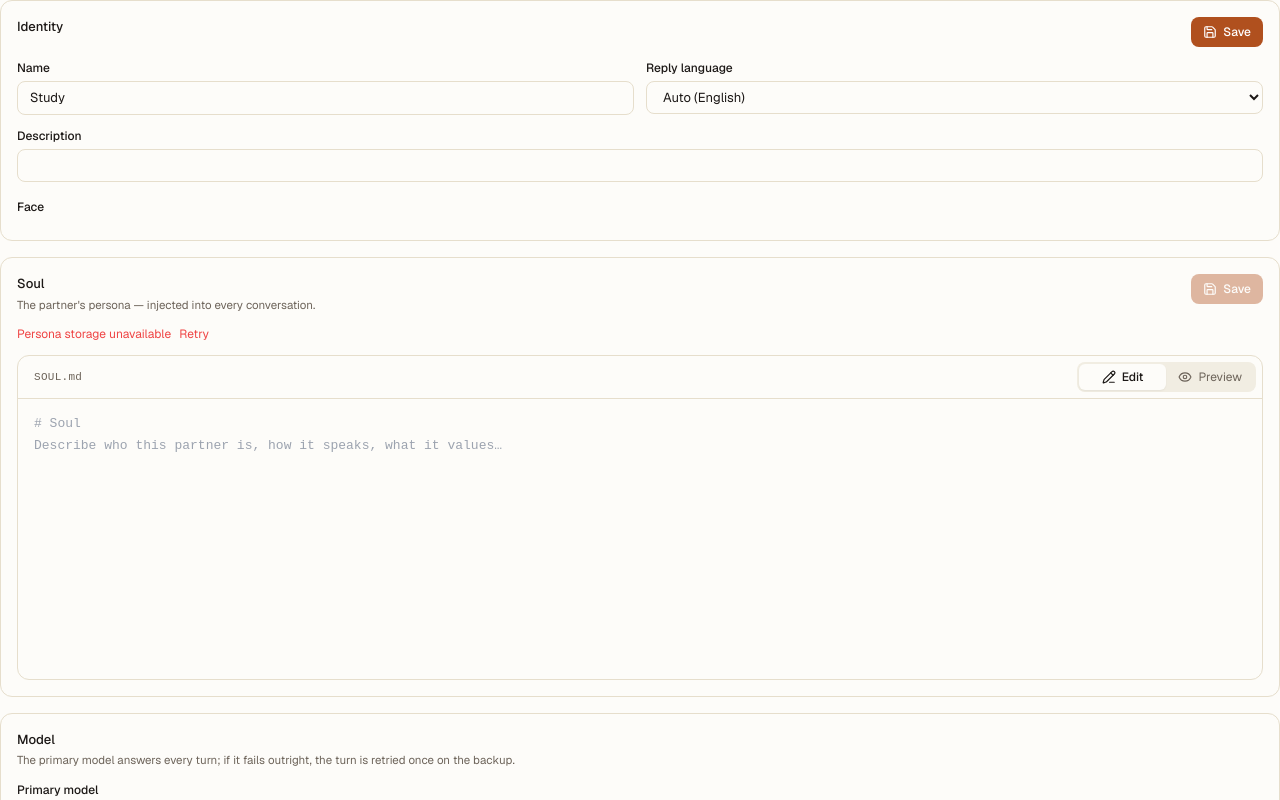
it: loads the stored persona on retry before enabling save
Expected: the text "Persona storage unavailable" is shown, 17,325 -> 171,343
What coordinates should you click on to do the following:
click the button "Retry"
I would click on:
 (194, 334)
Its box is 179,325 -> 209,343.
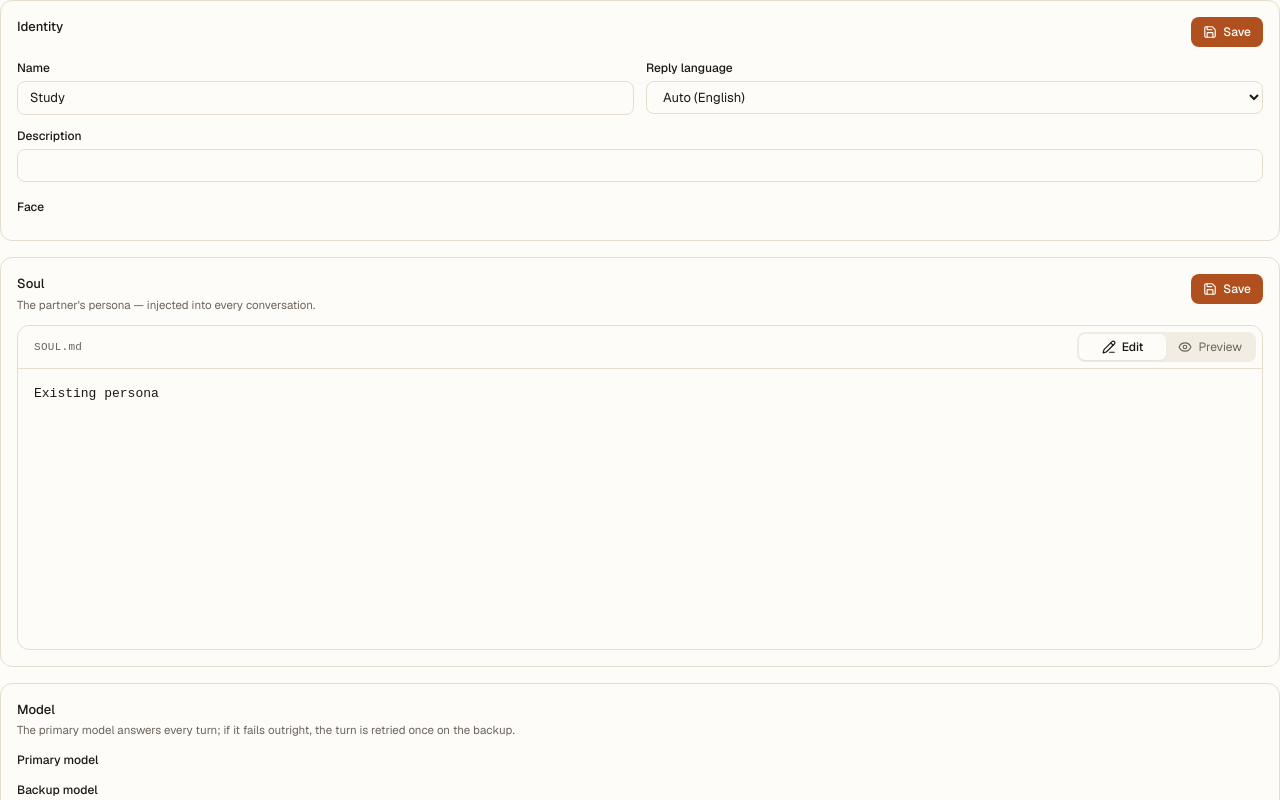
Now the text box holds "Existing persona", box 18,369 -> 1262,649
Now the 2nd button "Save" is enabled, box 1191,274 -> 1263,304
